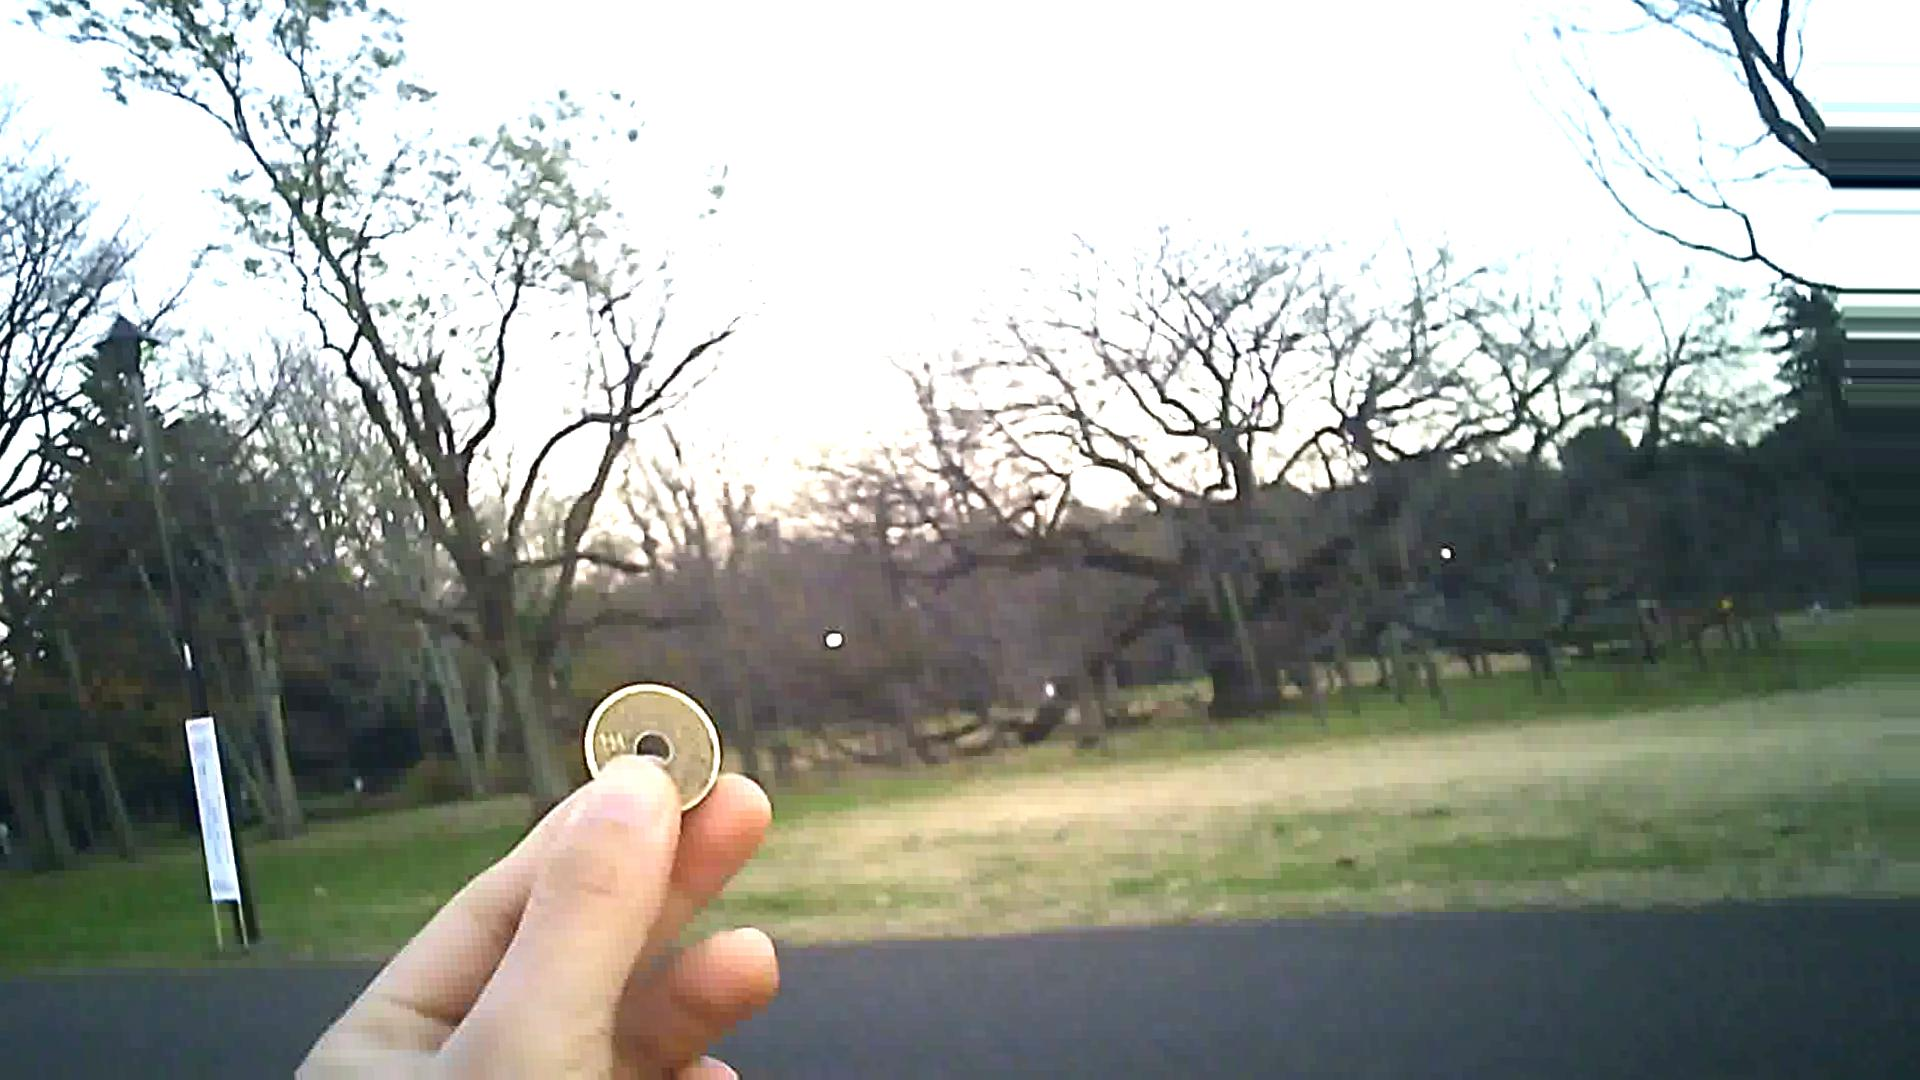5 Yen: (574, 671, 746, 845)
